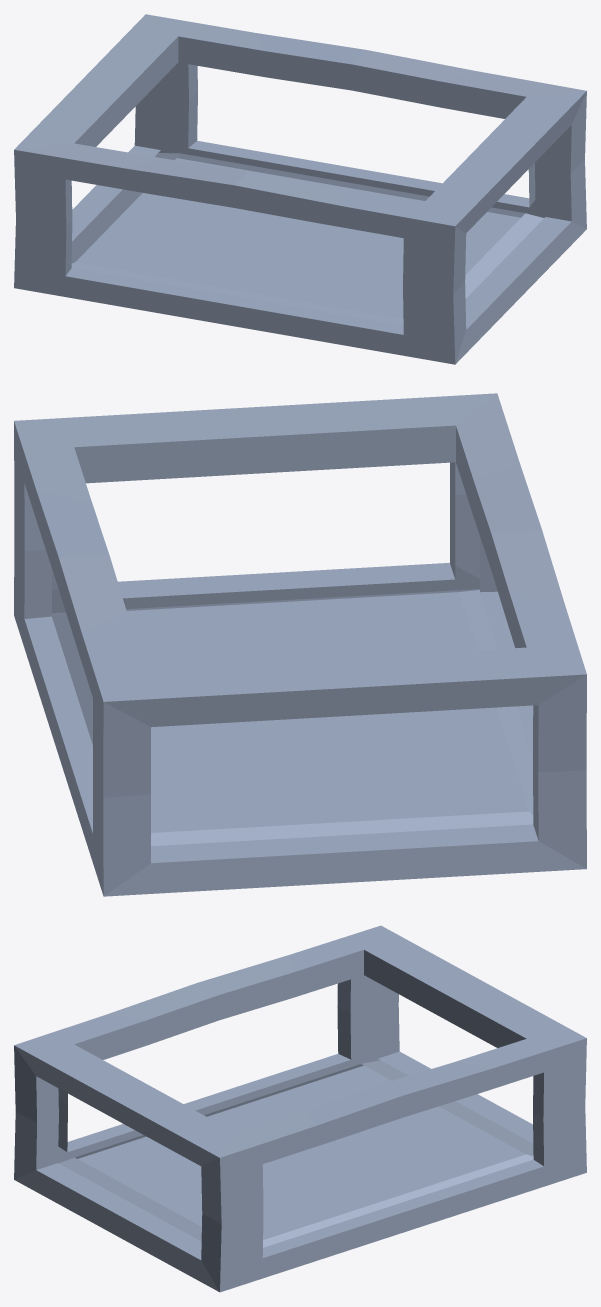
Rendered from n2_chest_bottom_light_grey_0_lev2.002.glb.
The picture shows the model from 3 angles, top to bottom: view 1: azimuth 30°, elevation 25°; view 2: azimuth 150°, elevation 25°; view 3: azimuth 270°, elevation 25°; orthographic projection. The views are drawn at different scales.
Visible parts, largest first — view 1: n2_chest_bottom_light_grey_0_lev2.002; view 2: n2_chest_bottom_light_grey_0_lev2.002; view 3: n2_chest_bottom_light_grey_0_lev2.002.
Part boxes in pixels (bbox=[...]): n2_chest_bottom_light_grey_0_lev2.002: bbox=[14, 14, 586, 364]; n2_chest_bottom_light_grey_0_lev2.002: bbox=[14, 393, 586, 896]; n2_chest_bottom_light_grey_0_lev2.002: bbox=[14, 925, 586, 1292].
Size of the model in its own units: 2.14 by 0.589 by 2.23.
